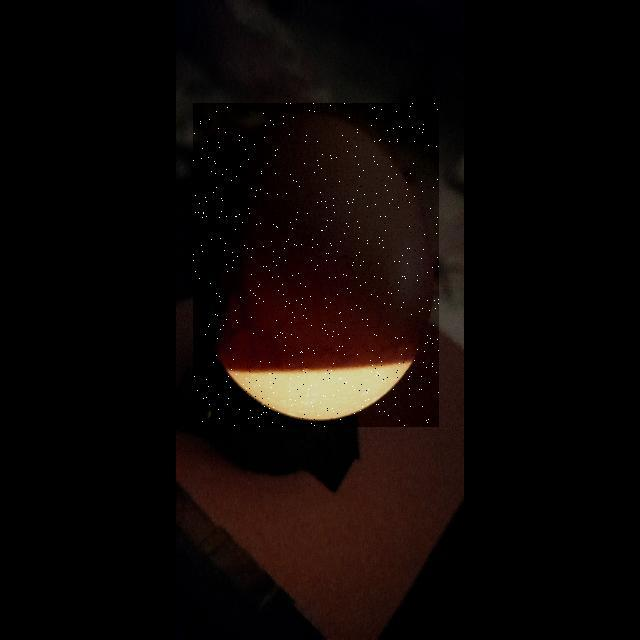Fertile: (193, 103, 439, 427)
